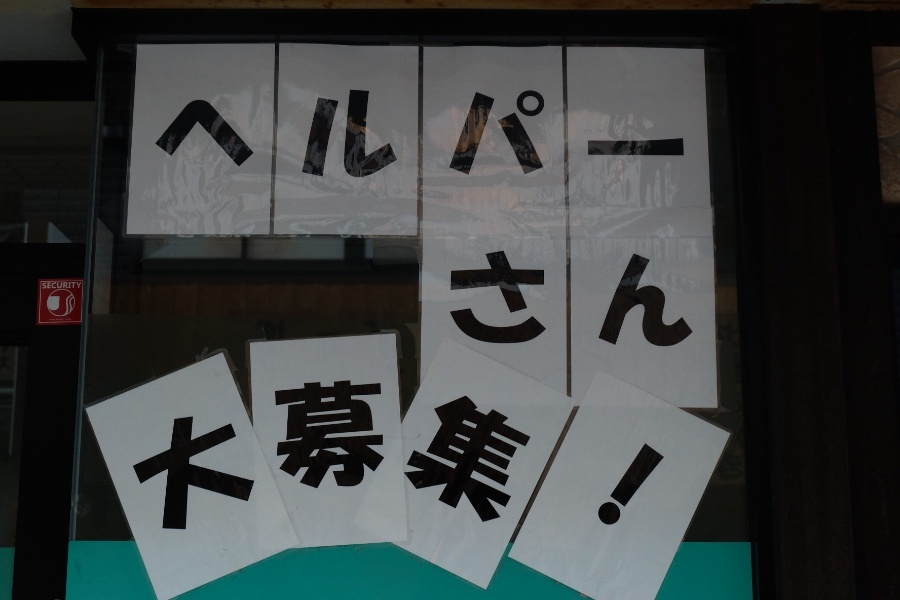text: (145, 377, 160, 538), (161, 377, 176, 538), (177, 377, 192, 538), (193, 377, 208, 538), (209, 377, 224, 538), (225, 377, 240, 538), (241, 377, 256, 538), (257, 377, 272, 538), (273, 377, 288, 538), (289, 377, 304, 538), (305, 377, 320, 538), (321, 377, 336, 538), (337, 377, 352, 538), (353, 377, 368, 538), (369, 377, 384, 538), (385, 377, 400, 538), (401, 377, 416, 538), (417, 377, 432, 538), (433, 377, 448, 538), (449, 377, 464, 538), (465, 377, 480, 538), (481, 377, 496, 538), (497, 377, 512, 538), (513, 377, 528, 538), (529, 377, 544, 538), (545, 377, 560, 538), (561, 377, 576, 538), (577, 377, 592, 538), (593, 377, 608, 538), (609, 377, 624, 538), (625, 377, 640, 538), (641, 377, 656, 538), (657, 377, 671, 538), (133, 377, 144, 538), (465, 252, 480, 348), (481, 252, 496, 348), (497, 252, 512, 348), (513, 252, 528, 348), (529, 252, 544, 348), (545, 252, 560, 348), (561, 252, 576, 348), (577, 252, 592, 348), (593, 252, 608, 348), (609, 252, 624, 348), (625, 252, 640, 348), (641, 252, 656, 348), (657, 252, 672, 348), (673, 252, 688, 348), (161, 91, 176, 182), (177, 91, 192, 182), (193, 91, 208, 182), (209, 91, 224, 182), (225, 91, 240, 182), (241, 91, 256, 182), (257, 91, 272, 182), (273, 91, 288, 182), (289, 91, 304, 182), (305, 91, 320, 182), (321, 91, 336, 182), (337, 91, 352, 182), (353, 91, 368, 182), (369, 91, 384, 182), (385, 91, 400, 182), (401, 91, 416, 182), (417, 91, 432, 182), (433, 91, 448, 182), (449, 91, 464, 182), (465, 91, 480, 182), (481, 91, 496, 182), (497, 91, 512, 182), (513, 91, 528, 182), (529, 91, 544, 182), (545, 91, 560, 182), (561, 91, 576, 182), (577, 91, 592, 182), (593, 91, 608, 182), (609, 91, 624, 182), (625, 91, 640, 182), (641, 91, 656, 182), (657, 91, 672, 182), (673, 91, 688, 182), (453, 252, 464, 348), (689, 252, 696, 348), (49, 280, 64, 291), (65, 280, 80, 291), (159, 91, 160, 182), (40, 280, 48, 291), (81, 280, 82, 291)
